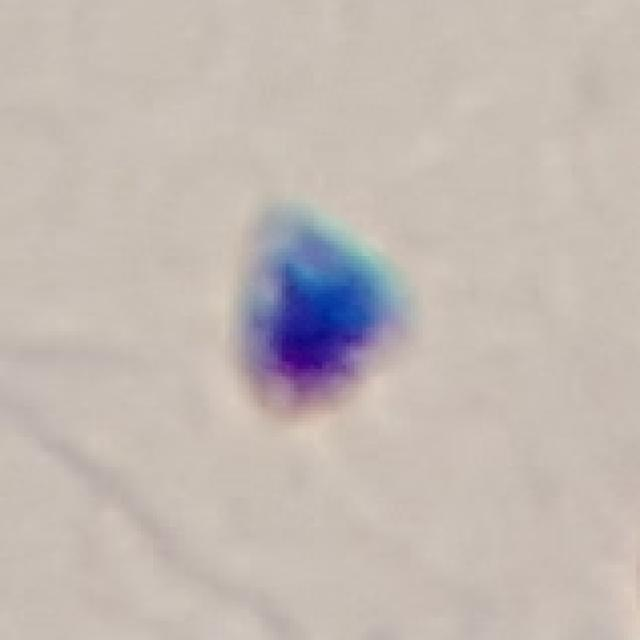non-sperm: (225, 190, 410, 428)
